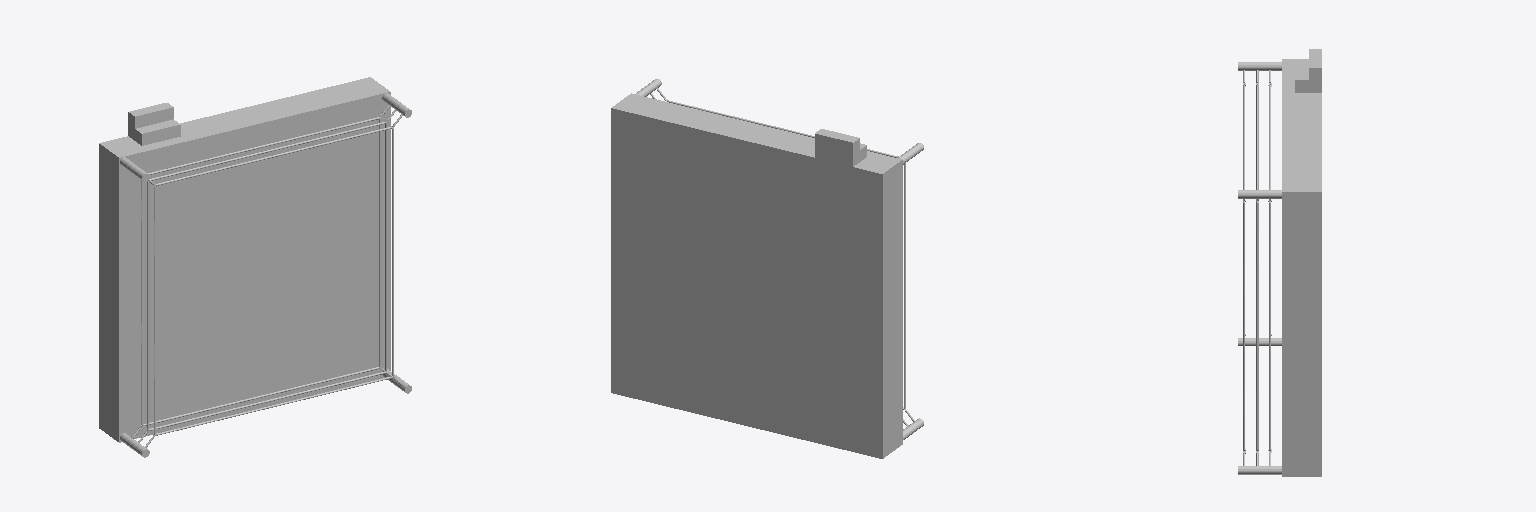
Rendered from boxingRing.obj.
3 renders of one model, left to right at view 1: azimuth 30°, elevation 25°; view 2: azimuth 150°, elevation 25°; view 3: azimuth 270°, elevation 25°, orthographic.
Visible parts, largest first — view 1: locator7_Mesh, pCube3_Mesh.001; view 2: locator7_Mesh, pCube3_Mesh.001; view 3: locator7_Mesh, pCube3_Mesh.001.
Part boxes in pixels (x1,y1,x2,y2): locator7_Mesh: (99,77,411,457); pCube3_Mesh.001: (128,103,180,145); locator7_Mesh: (611,79,923,458); pCube3_Mesh.001: (815,129,866,166); locator7_Mesh: (1238,59,1321,476); pCube3_Mesh.001: (1295,49,1321,92).
Size of the model in its own units: 35.07 by 38.18 by 9.49.